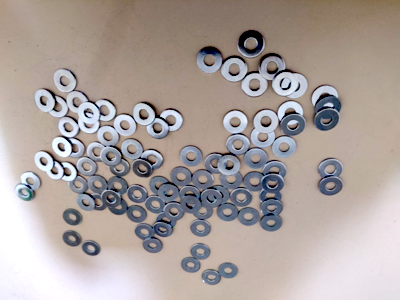circle: (237, 30, 266, 59), (259, 54, 286, 82), (221, 56, 248, 83), (196, 47, 223, 74), (241, 72, 269, 98), (282, 72, 308, 99), (314, 107, 340, 132), (253, 109, 279, 134), (272, 71, 297, 97), (312, 86, 339, 110), (159, 108, 184, 133), (53, 68, 77, 94), (315, 97, 342, 120), (280, 113, 305, 137), (223, 110, 248, 134), (46, 94, 70, 119), (278, 102, 304, 125), (113, 113, 137, 137), (66, 90, 89, 115), (251, 126, 275, 149), (179, 145, 203, 168), (146, 116, 169, 140), (94, 99, 117, 123), (318, 158, 343, 180), (272, 137, 297, 159), (217, 154, 242, 176), (262, 161, 287, 183), (192, 168, 215, 191), (243, 171, 266, 194), (97, 125, 120, 148), (66, 173, 89, 196), (219, 169, 243, 191), (133, 102, 155, 126), (78, 112, 100, 136), (34, 88, 55, 113), (244, 148, 267, 170), (226, 134, 249, 156), (230, 187, 253, 209), (33, 150, 55, 173), (141, 148, 164, 170), (58, 116, 80, 139), (78, 101, 100, 124), (261, 173, 285, 194), (318, 176, 343, 196), (259, 187, 284, 207), (57, 161, 79, 183), (106, 176, 128, 198), (87, 174, 109, 196), (204, 153, 227, 174), (237, 207, 260, 228), (170, 167, 192, 188), (163, 201, 185, 222), (121, 139, 143, 160), (76, 157, 98, 178), (86, 141, 107, 163), (51, 136, 72, 158), (64, 138, 86, 159), (189, 219, 212, 239), (149, 176, 171, 196), (158, 183, 180, 203), (145, 195, 167, 215), (260, 214, 283, 233), (261, 199, 284, 218), (216, 203, 239, 222), (133, 158, 153, 179), (109, 157, 130, 177), (180, 195, 201, 214), (201, 189, 222, 208), (134, 223, 155, 242), (20, 172, 41, 191), (45, 160, 64, 181), (127, 185, 148, 204), (108, 197, 129, 216), (88, 192, 109, 211), (190, 244, 212, 262), (155, 212, 177, 230), (14, 184, 36, 202), (193, 201, 213, 220), (102, 189, 122, 208), (76, 193, 96, 212), (218, 262, 239, 280), (62, 209, 83, 227), (153, 221, 173, 239), (201, 269, 222, 286), (142, 237, 163, 254), (181, 257, 201, 274), (81, 241, 101, 258), (127, 206, 147, 223), (63, 231, 82, 248)
